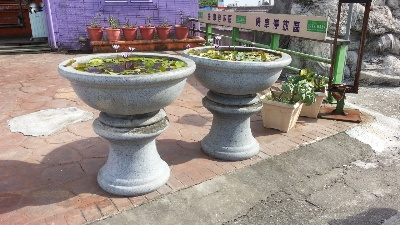bowl: (55, 49, 197, 199), (183, 44, 293, 164)
